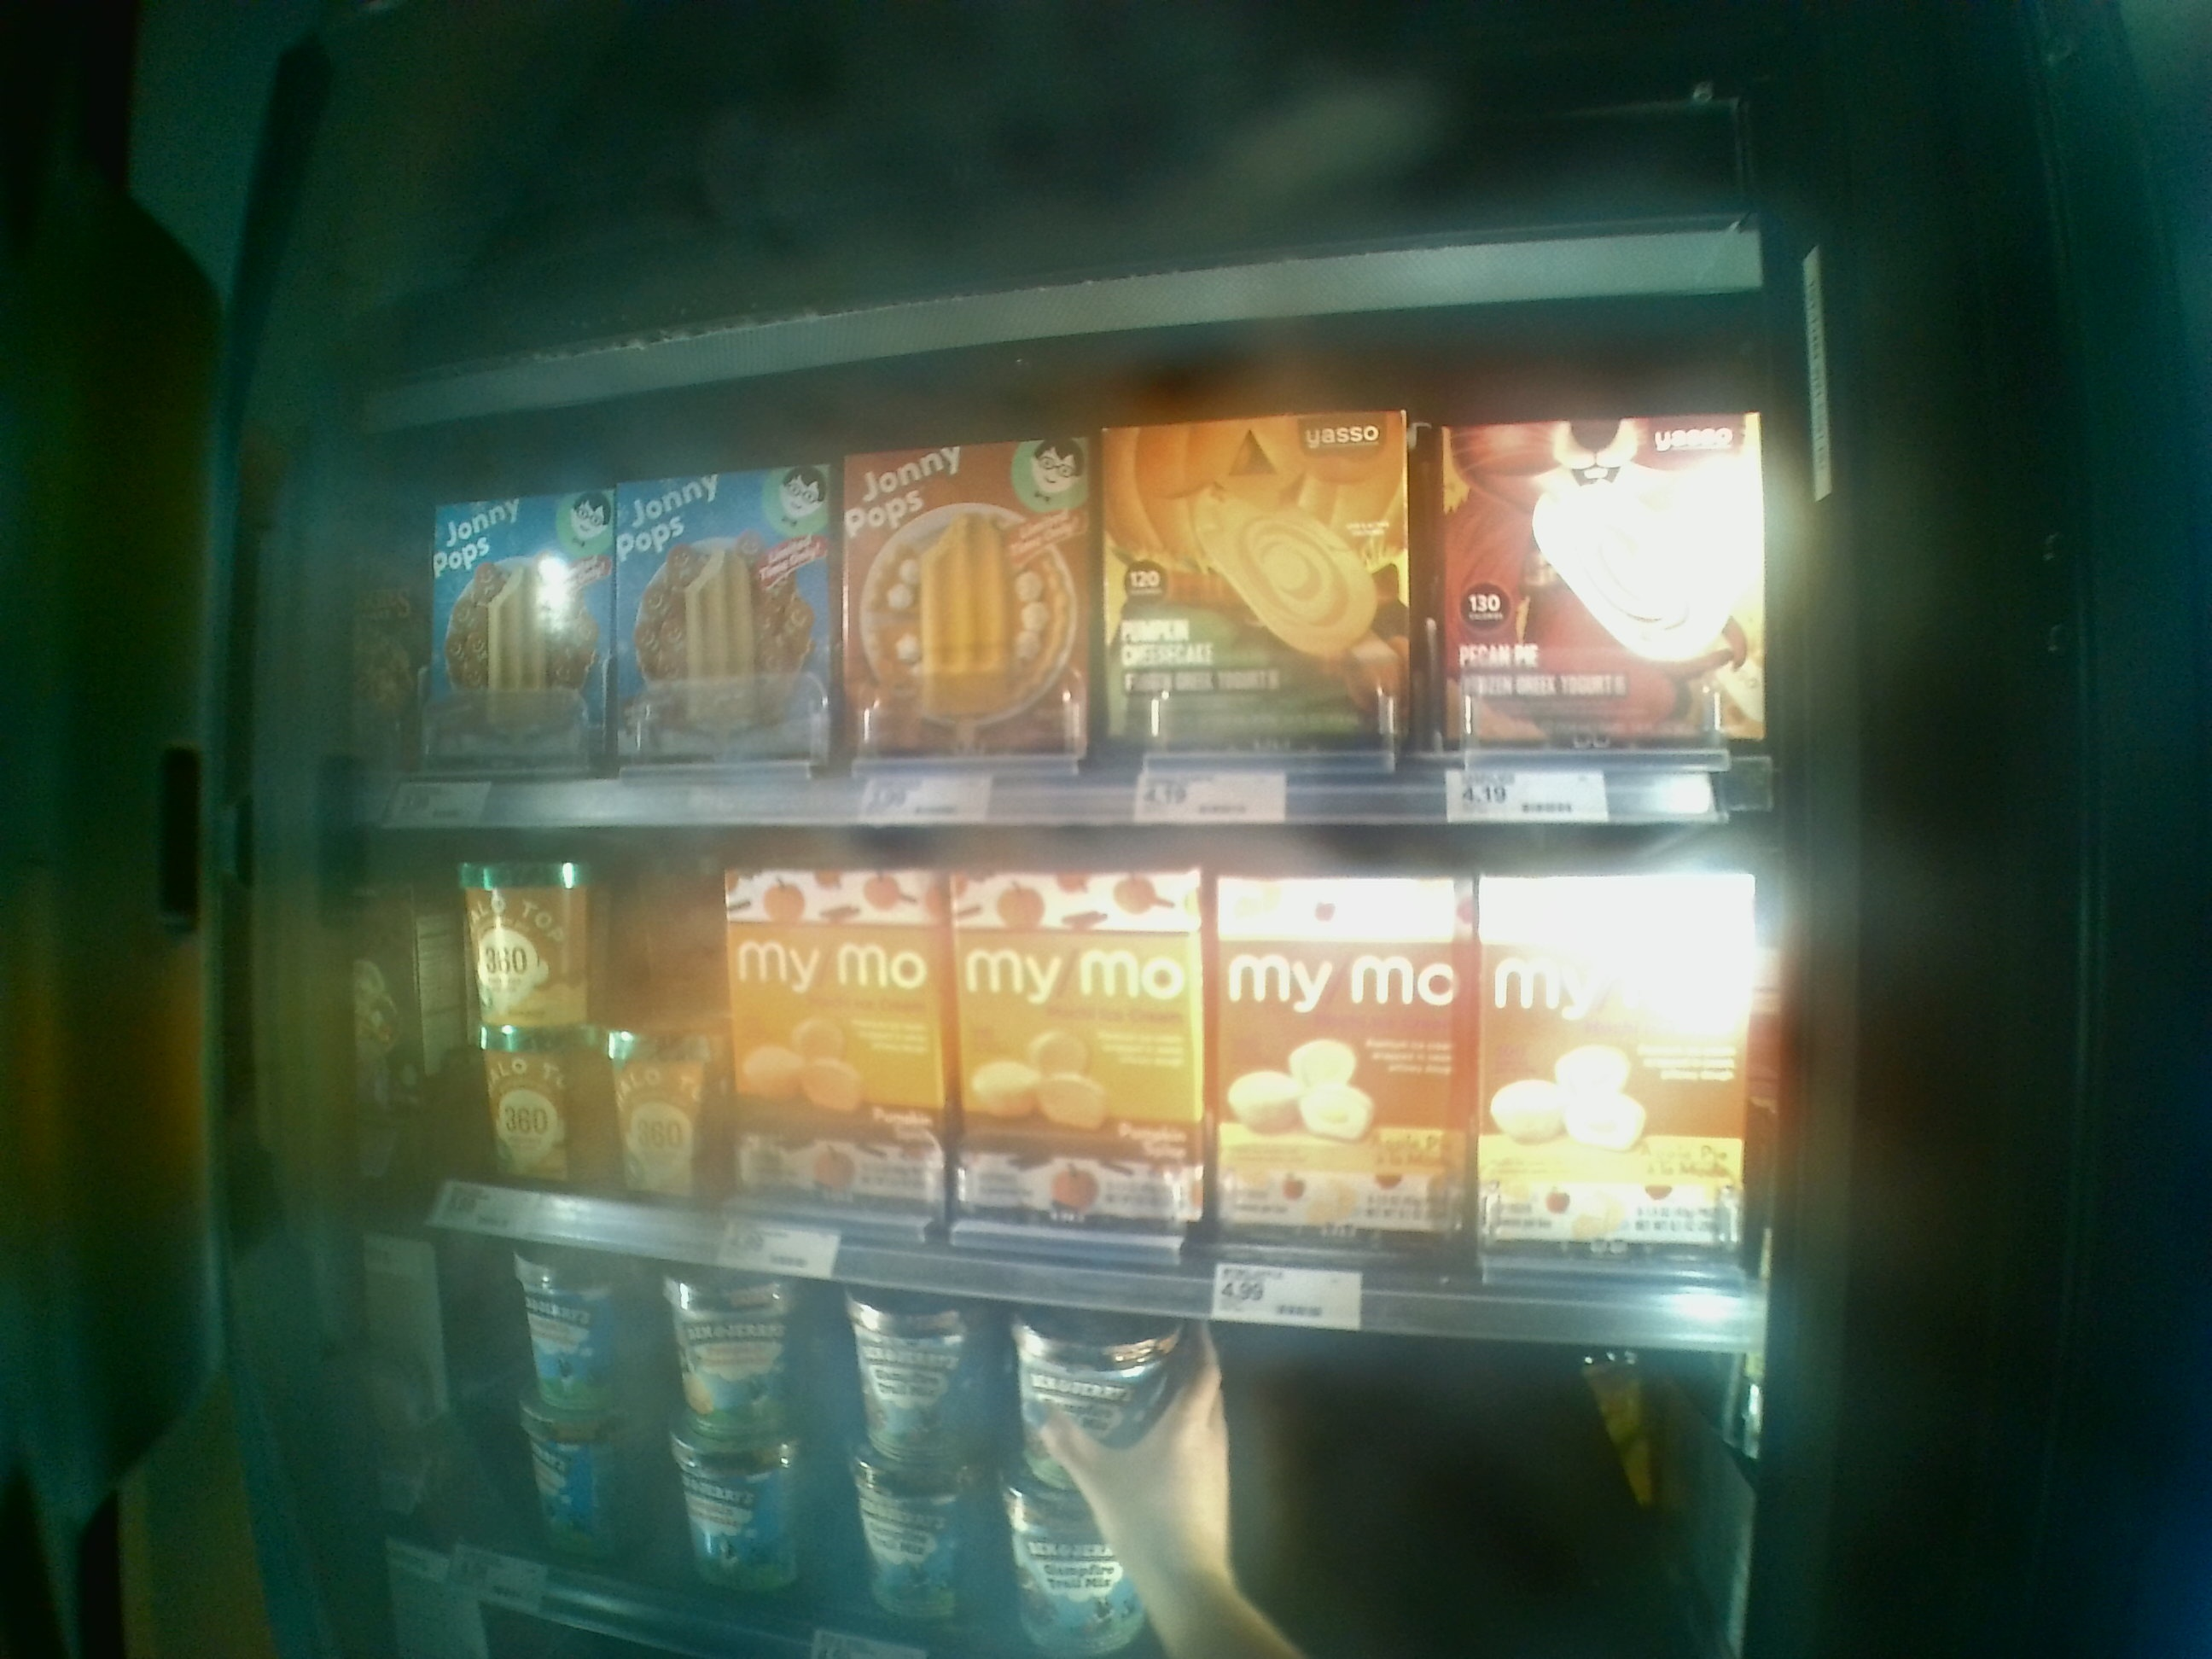shelf: (294, 828, 1780, 1373), (307, 416, 1797, 828)
